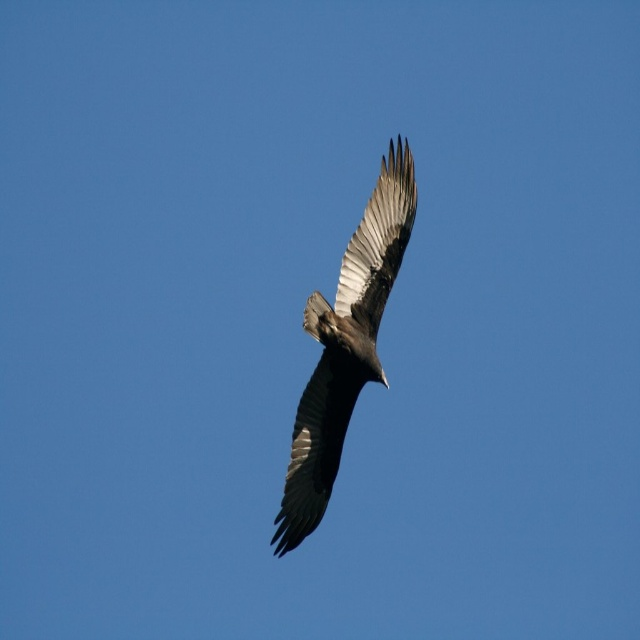Eagle: (270, 131, 418, 558)
